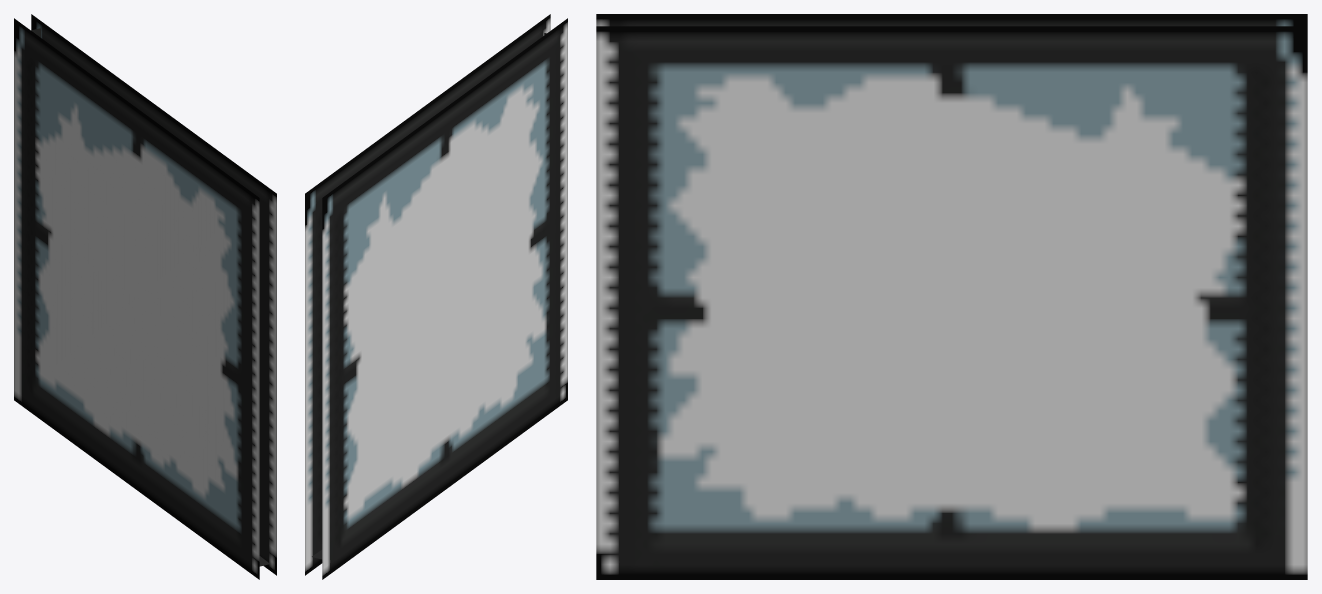
File: pz_native_fixtures_windows_metal_80_frame.obj
3 renders of one model, left to right at view 1: azimuth 30°, elevation 25°; view 2: azimuth 150°, elevation 25°; view 3: azimuth 270°, elevation 25°, orthographic. The views are drawn at different scales.
Parts seen in each view (by area): view 1: pz_native_fixtures_windows_metal_80_frame; view 2: pz_native_fixtures_windows_metal_80_frame; view 3: pz_native_fixtures_windows_metal_80_frame.
Part boxes in pixels (x1,y1,x2,y2): pz_native_fixtures_windows_metal_80_frame: [14, 14, 276, 579]; pz_native_fixtures_windows_metal_80_frame: [305, 14, 567, 579]; pz_native_fixtures_windows_metal_80_frame: [596, 14, 1307, 579].
Bounding box in the file's own units: 0.04 × 0.8438 × 0.9823.
Materials: 1 (1 with a texture image).
